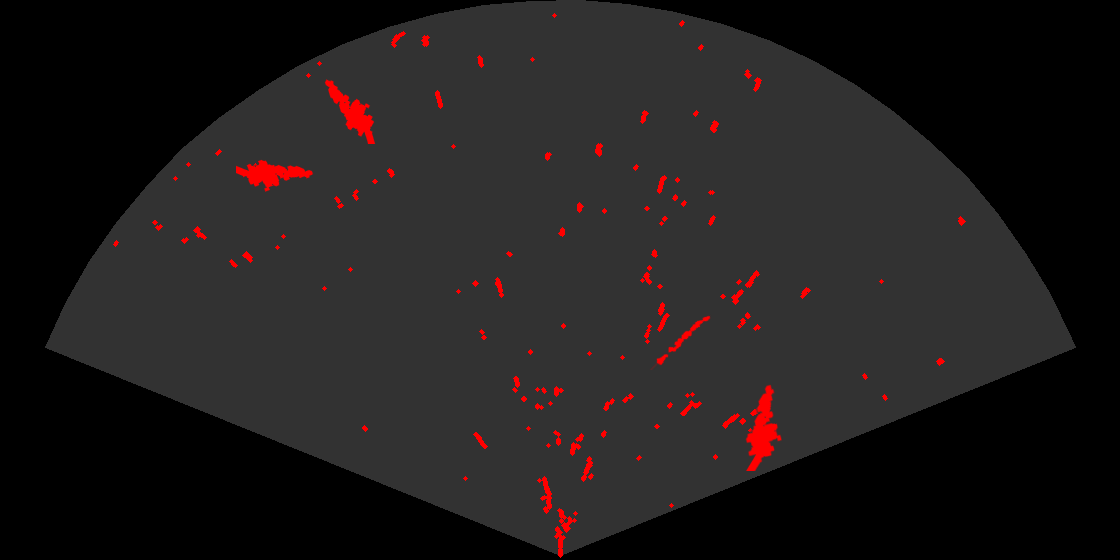chain: (649, 314, 712, 370)
frogman: (323, 78, 377, 144), (744, 383, 783, 471), (236, 158, 315, 193)
